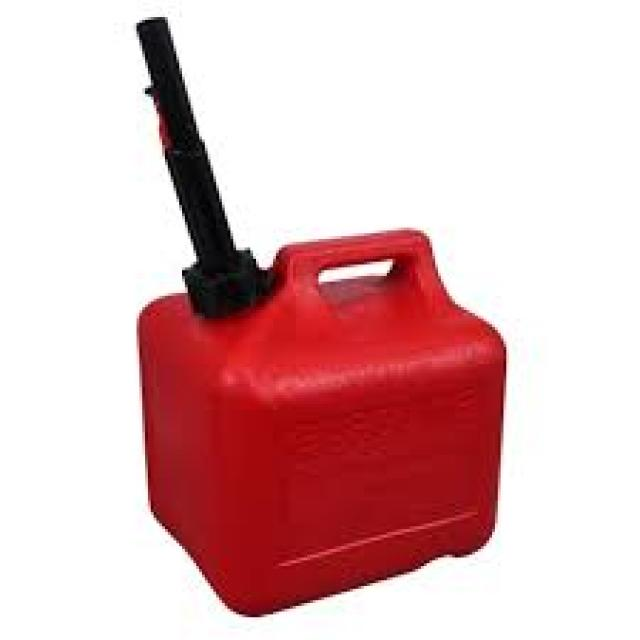gasolin: (138, 18, 505, 614)
